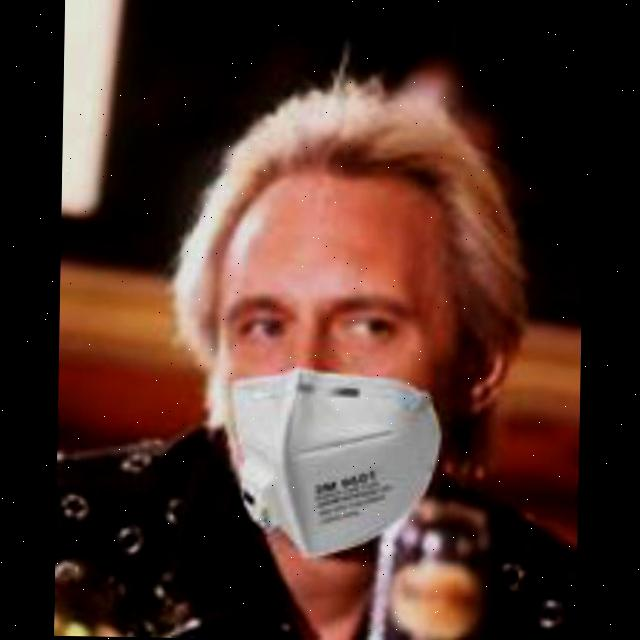suspicion: (186, 104, 534, 532)
